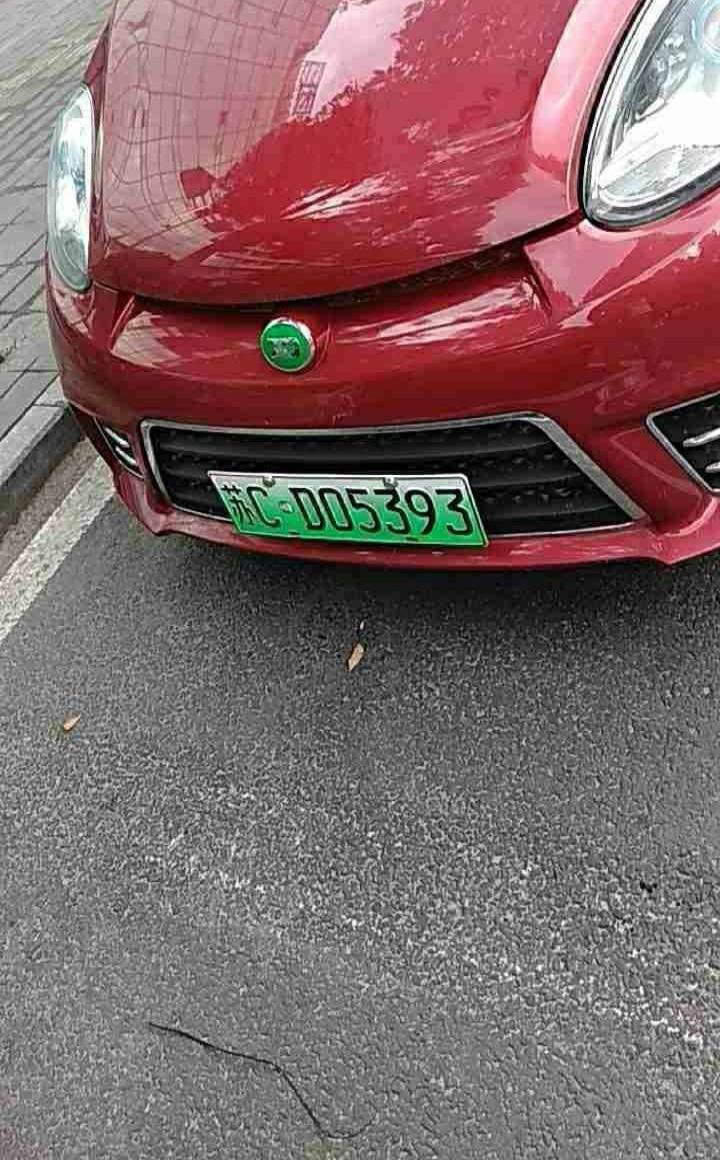car_id: (213, 476, 485, 539)
